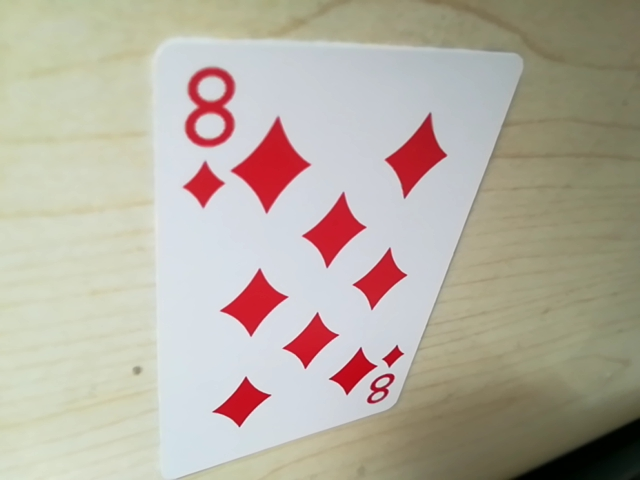fk 8: (170, 50, 245, 197), (353, 358, 407, 410)
